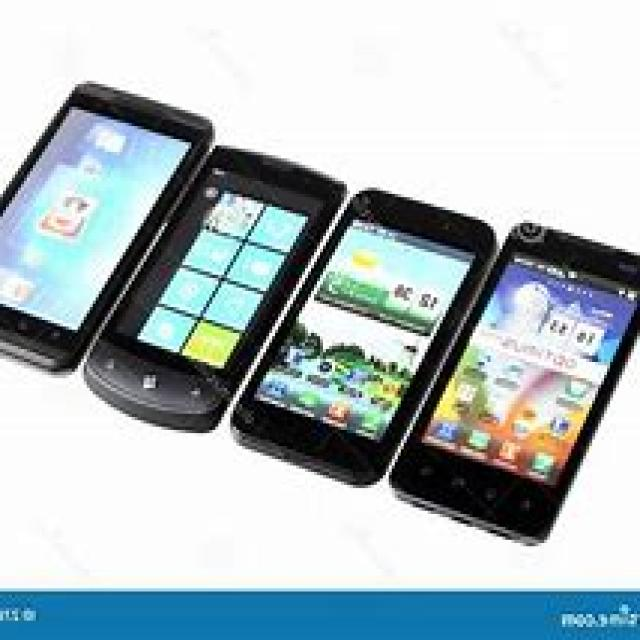mobile: (84, 135, 341, 429), (252, 201, 493, 475), (410, 241, 639, 526), (0, 71, 205, 366)
